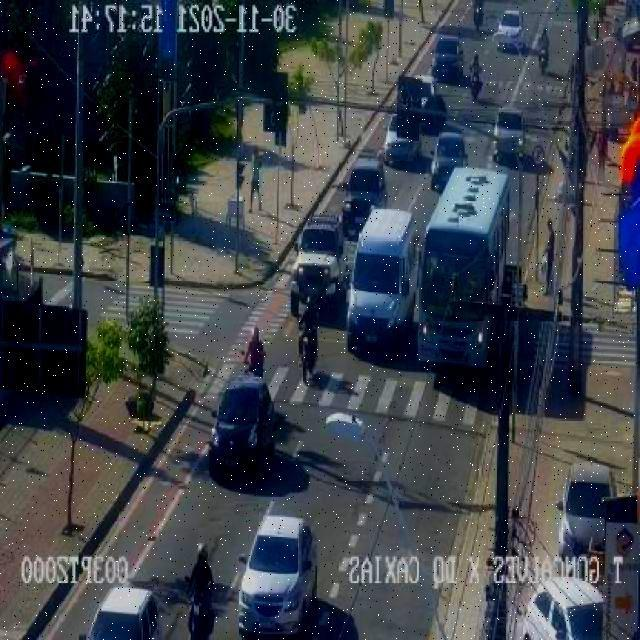Bus: (414, 166, 512, 372)
Car: (235, 515, 317, 640), (208, 374, 277, 481), (287, 213, 345, 315), (558, 461, 616, 558), (515, 578, 607, 639), (84, 588, 162, 640), (340, 155, 389, 237), (430, 131, 467, 190), (383, 112, 419, 168), (492, 108, 526, 166), (431, 35, 465, 83), (493, 10, 525, 52)
Cycle: (181, 573, 220, 640), (295, 316, 323, 386), (466, 63, 487, 102), (472, 0, 485, 31), (538, 43, 550, 76)
Van: (347, 210, 421, 352)
